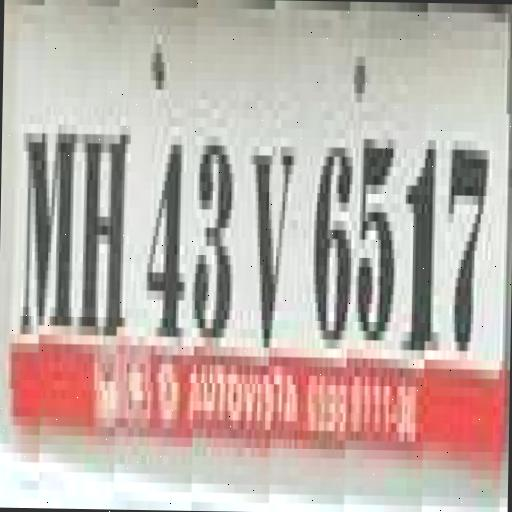number plate: (13, 0, 512, 415)
